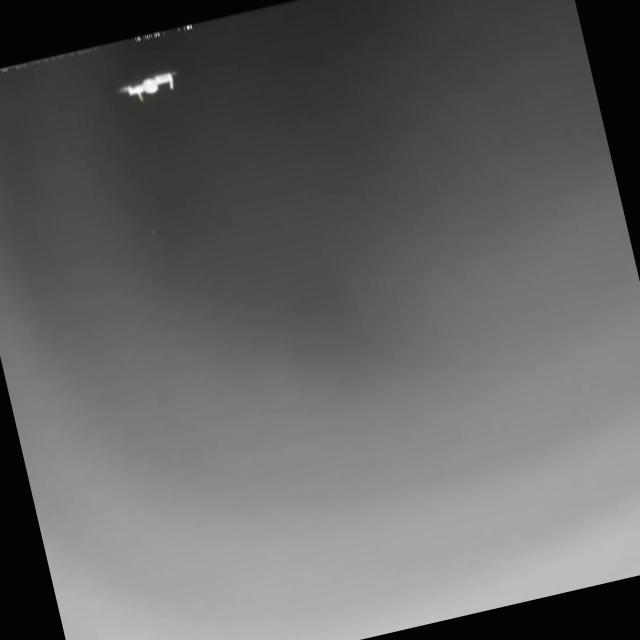DRONE: (116, 68, 182, 106)
